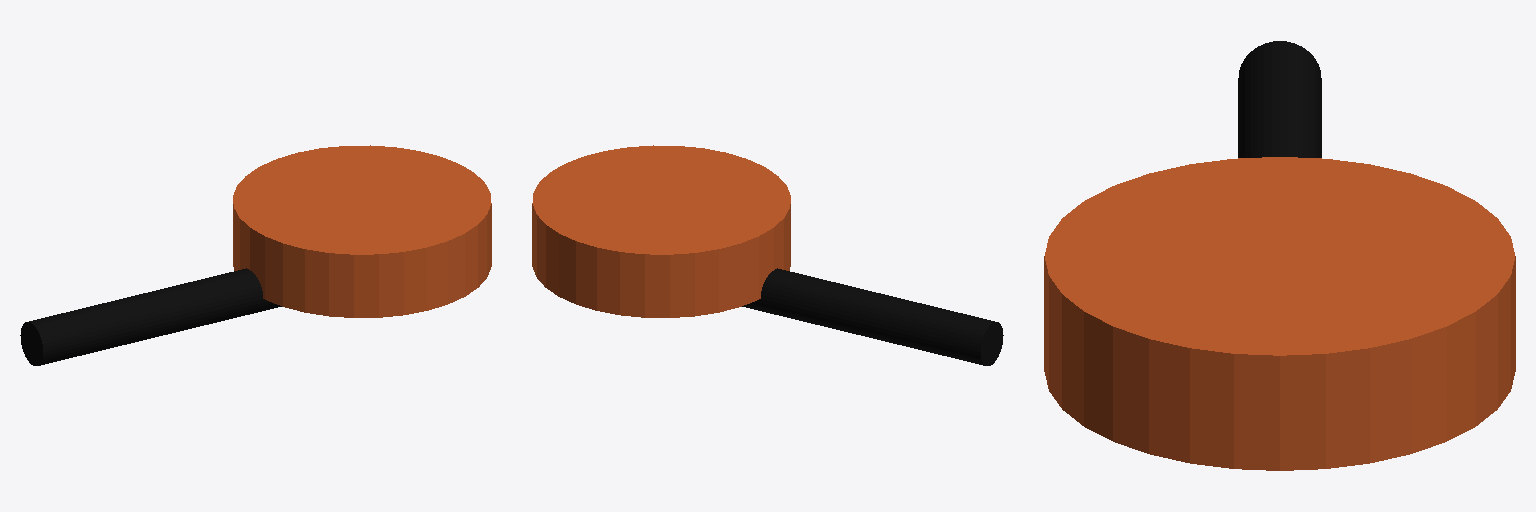
URDF robot description (DM8006):
<?xml version="1.0" encoding="utf-8"?>
<robot name="DM8006">

  <link
    name="l_hip_roll_link">
    <inertial>
      <origin
        xyz="-0.00066826 -0.00074475 -0.00076094"
        rpy="0 0 0" />
      <mass
        value="0.4813" />
      <inertia
        ixx="0.0002035"
        ixy="-1.0034E-05"
        ixz="-1.8707E-06"
        iyy="0.00026097"
        iyz="-2.2574E-06"
        izz="0.00041524" />
    </inertial>
    <visual>
      <origin
        xyz="0 0 0"
        rpy="3.14159 0 0" />
      <geometry>
        <mesh
          filename="../meshes/left_hip_roll_link.STL" />
      </geometry>
      <material
        name="">
        <color
          rgba="0.89804 0.91765 0.92941 1" />
      </material>
    </visual>
    <collision>
      <origin
        xyz="0 0 0"
        rpy="3.14159 0 0" />
      <geometry>
        <mesh
          filename="../meshes/left_hip_roll_link.STL" />
      </geometry>
    </collision>
  </link>
  <link
    name="l_hip_yaw_link">
    <visual>
      <origin xyz="0.05 0 0" rpy="0 1.5708 0"/>
      <geometry>
        <cylinder length="0.1" radius="0.006"/>
      </geometry>
      <material name="black">
        <color rgba="0.1 0.1 0.1 1.0"/>
      </material>
    </visual>
    
    <collision>
      <origin xyz="0.05 0 0" rpy="0 1.5708 0"/>
      <geometry>
        <cylinder length="0.1" radius="0.006"/>
      </geometry>
    </collision>
    
    <!-- 轻质连杆，质量给非常小 -->
    <inertial>
      <origin xyz="0.05 0 0" rpy="0 0 0"/>
      <mass value="0.015"/>    <!-- 非常轻 -->
      <inertia ixx="0.0000005" ixy="0.0" ixz="0.0" 
               iyy="0.00001" iyz="0.0" izz="0.00001"/>
    </inertial>
  </link>
  
  <!-- ====================== 末端质量块 (圆柱形 0.5kg) ====================== -->
  <link name="mass">
    <visual>
      <origin xyz="0 0 0.009175" rpy="0 0 0"/>
      <geometry>
        <!-- 直径67.95mm，高度18.35mm的圆柱，z轴朝上 -->
        <cylinder length="0.01835" radius="0.033975"/>
      </geometry>
      <material name="iron">
        <color rgba="0.8 0.4 0.2 1.0"/>
      </material>
    </visual>
    
    <collision>
      <origin xyz="0 0 0.009175" rpy="0 0 0"/>
      <geometry>
        <cylinder length="0.01835" radius="0.033975"/>
      </geometry>
    </collision>
    
    <inertial>
      <origin xyz="0 0 0.009175" rpy="0 0 0"/>
      <mass value="0.5"/>
      <!-- 圆柱绕中心轴惯量计算: r=0.033975m, h=0.01835m -->
      <!-- Izz = mr²/2 (绕长轴z) -->
      <!-- Ixx = Iyy = m(3r²+h²)/12 (绕垂直轴) -->
      <inertia ixx="0.0001583" ixy="0.0" ixz="0.0" 
               iyy="0.0001583" iyz="0.0" 
               izz="0.000289"/>
    </inertial>
  </link>
  
  <!-- 末端质量与连杆固连 -->
  <joint name="mass_fixed_joint" type="fixed">
    <parent link="l_hip_yaw_link"/>
    <child link="mass"/>
    <!-- 连杆末端在x=0.1，质量块底部在连杆末端 -->
    <origin xyz="0.1 0 0" rpy="0 0 0"/>
  </joint>
  
  <joint
    name="l_hip_yaw_joint"
    type="revolute">
    <origin
      xyz="0 0 0.03"
      rpy="0 0 0" />
    <parent
      link="l_hip_roll_link" />
    <child
      link="l_hip_yaw_link" />
    <axis
      xyz="0 0 1" />
    <limit
      lower="-1.57"
      upper="1.57"
      effort="14"
      velocity="12.56" />
    <dynamics
      damping="0"
      friction="0" />
  </joint>

</robot>

--- Facts derived from the render (not from the file) ---
3 views of the same robot in one strip: view 1: azimuth 30°, elevation 25°; view 2: azimuth 150°, elevation 25°; view 3: azimuth 270°, elevation 25° (orthographic).
Model DM8006 with 3 links and 2 joints (1 revolute, 1 fixed), rooted at l_hip_roll_link, posed every joint at zero.
Links seen in each view (by area): view 1: mass, l_hip_yaw_link; view 2: mass, l_hip_yaw_link; view 3: mass, l_hip_yaw_link.
Boxes of the visible links, left/top/right/bottom form: mass: left=233, top=145, right=491, bottom=317; l_hip_yaw_link: left=20, top=268, right=281, bottom=365; mass: left=532, top=145, right=790, bottom=317; l_hip_yaw_link: left=742, top=268, right=1003, bottom=365; mass: left=1044, top=157, right=1515, bottom=470; l_hip_yaw_link: left=1238, top=41, right=1321, bottom=157.
Bounding box of the posed robot: 0.134 × 0.068 × 0.0244 m (x, y, z).
0 mesh visuals loaded from 1 distinct referenced files (none loaded); not drawn: 1 (reference not matched to a file when rendering).
